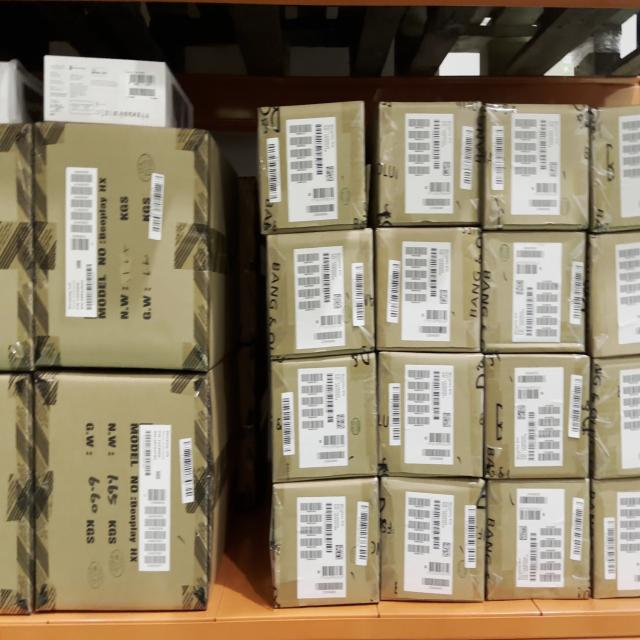box: (35, 118, 208, 376), (35, 376, 210, 612), (258, 105, 366, 233), (375, 227, 482, 354), (482, 226, 588, 352), (274, 482, 384, 602), (486, 354, 591, 479), (381, 99, 483, 227), (379, 351, 481, 479), (487, 478, 592, 602), (484, 105, 588, 230), (270, 230, 372, 356), (271, 357, 378, 477), (384, 478, 485, 602), (589, 106, 640, 234), (592, 356, 640, 478), (592, 479, 640, 600), (593, 235, 640, 352)
